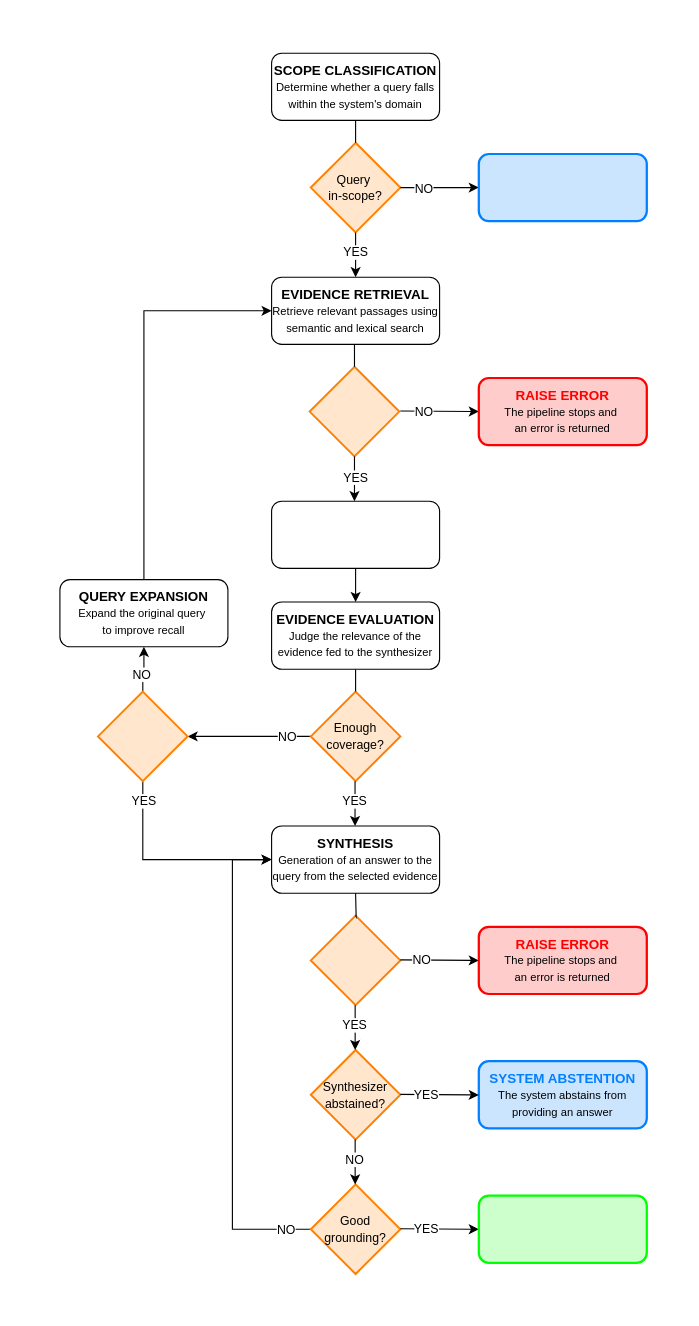
Some shapes in this 699 by 1326 pixel diagram are drawn without their labels. The shapes that lost their labels are listed below. From the top down, each one's centre as x and y in pixels, then its label:
At point (562, 187): "SYSTEM ABSTENTION The system abstains from answering out-of-scope queries".
At point (354, 411): "Retrieval successful ?".
At point (355, 534): "RERANKING Re-rank retrieved passages to prioritize the most relevant ones".
At point (142, 736): "Already expanded ?".
At point (355, 960): "Valid o utput format ?".
At point (562, 1228): "SUCCESS A valid, evidence-based answer is returned".
